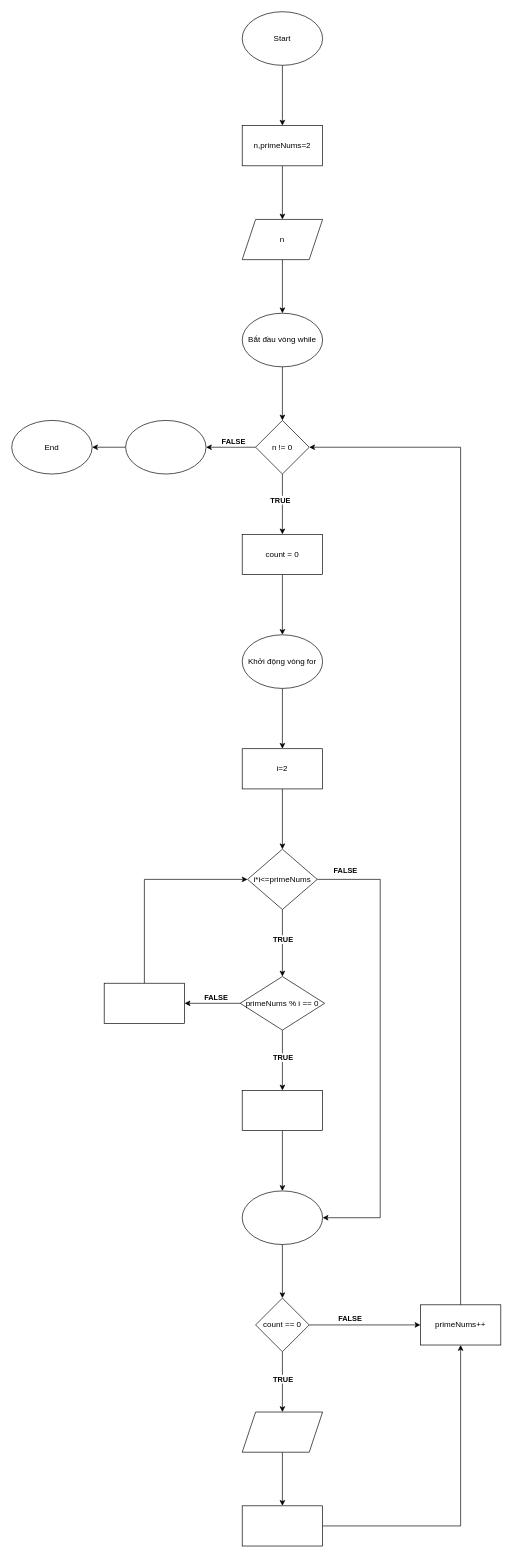
This 513x1558 diagram has some shape labels left out. The centre of each missing label's shape, as x and y in pixels:
count++;: pixel 282 1110
i++: pixel 144 1003
Kết thúc vòng for: pixel 282 1217
Kết thúc vòng while: pixel 165 447
n--: pixel 282 1525
primeNums: pixel 282 1431
